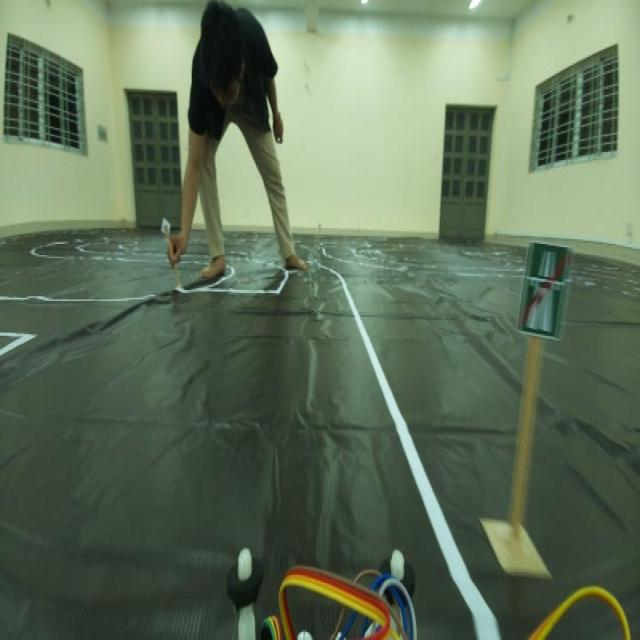highway_exit: (515, 233, 569, 348)
